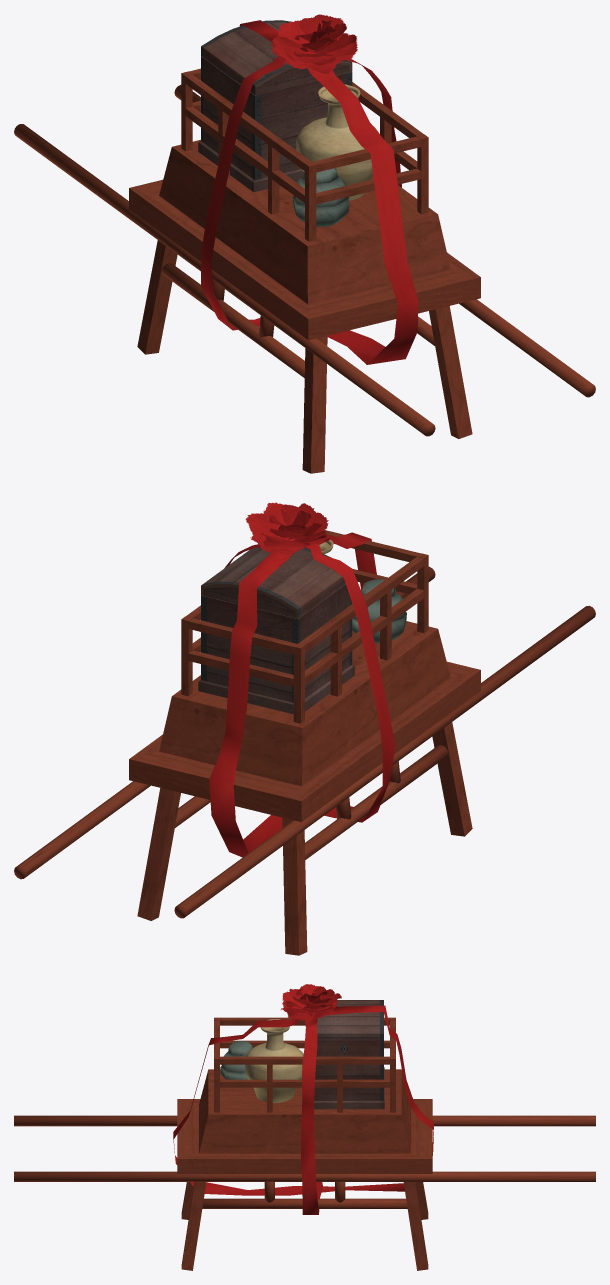
File: FC_N592_B_Dowry_C.fbx
3 renders of one model, top to bottom at view 1: azimuth 30°, elevation 25°; view 2: azimuth 150°, elevation 25°; view 3: azimuth 270°, elevation 25°, orthographic. The views are drawn at different scales.
Visible parts, largest first — view 1: Dowry_C; view 2: Dowry_C; view 3: Dowry_C.
Boxes of the visible parts, left/top/right/bottom form: Dowry_C: left=14, top=14, right=595, bottom=473; Dowry_C: left=14, top=502, right=595, bottom=955; Dowry_C: left=14, top=984, right=595, bottom=1270.
Size of the model in its own units: 70.95 by 130 by 265.
